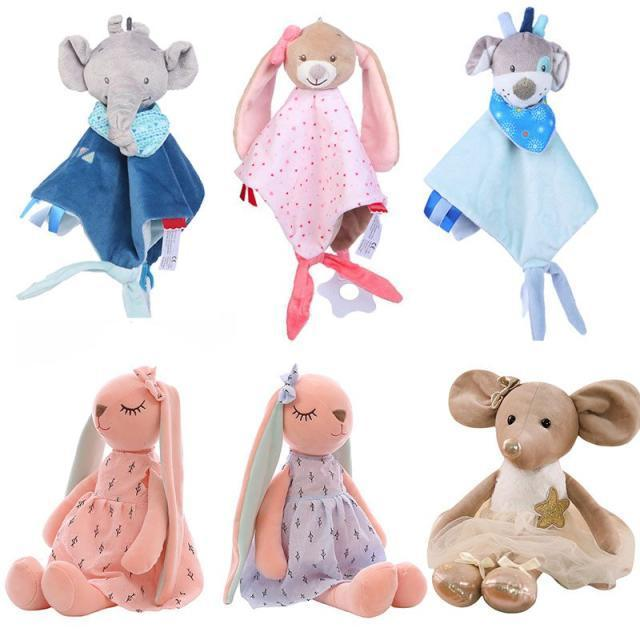soft-toy: (426, 9, 599, 340), (20, 16, 205, 319), (235, 22, 402, 339), (429, 371, 640, 613), (225, 369, 427, 618), (7, 369, 204, 617)
